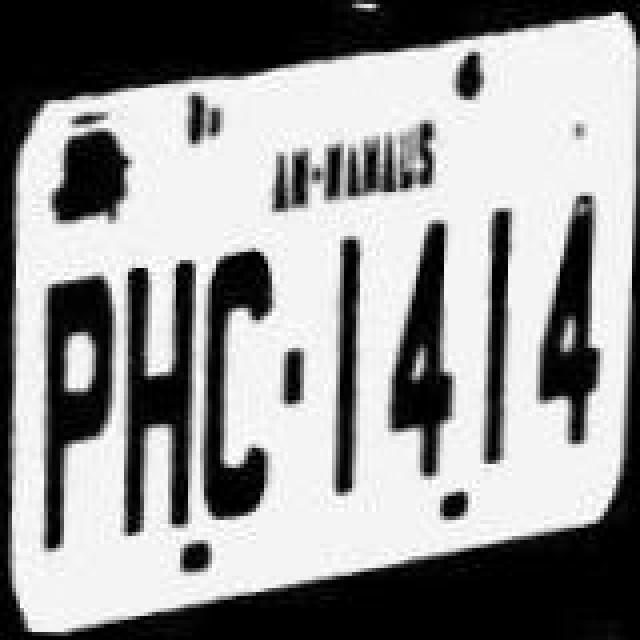1: (308, 218, 376, 494), (470, 182, 530, 478)
4: (526, 186, 618, 486), (386, 204, 470, 492)
C: (194, 222, 290, 526)
H: (116, 230, 208, 542)
P: (30, 260, 122, 572)
